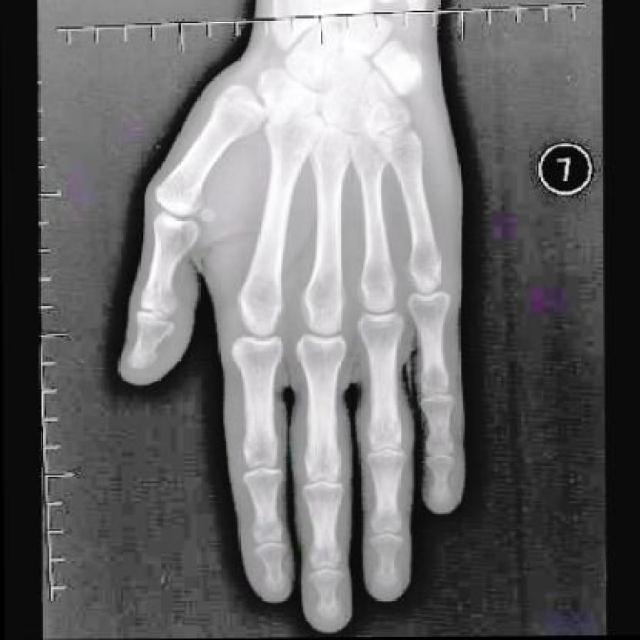Fracture: (140, 322, 176, 364)
